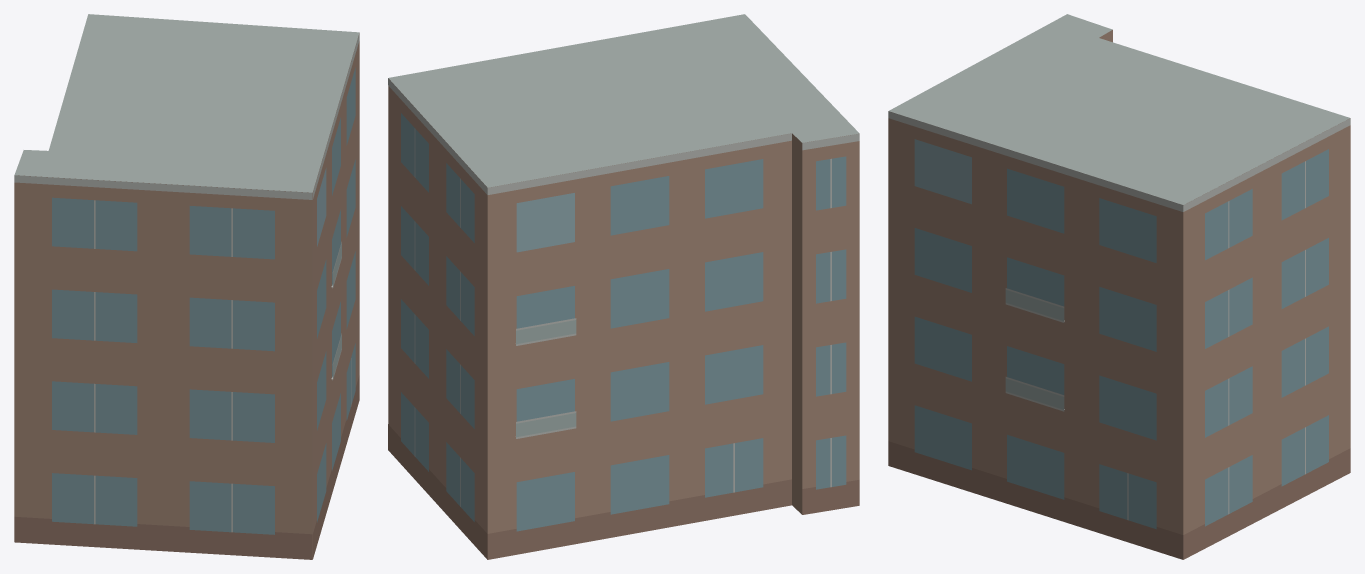
The model's file is survey-upis-32977746.glb.
3 views of the same model, side by side, from view 1: azimuth 30°, elevation 25°; view 2: azimuth 150°, elevation 25°; view 3: azimuth 270°, elevation 25° (orthographic). The views are drawn at different scales.
Visible parts, largest first — view 1: survey-upis-32977746.tmp; view 2: survey-upis-32977746.tmp; view 3: survey-upis-32977746.tmp.
Boxes of the visible parts, x1=… form: survey-upis-32977746.tmp: x1=14, y1=14, x2=359, y2=559; survey-upis-32977746.tmp: x1=388, y1=14, x2=859, y2=559; survey-upis-32977746.tmp: x1=888, y1=14, x2=1350, y2=559.
Size of the model in its own units: 14.1 by 12.2 by 14.41.
